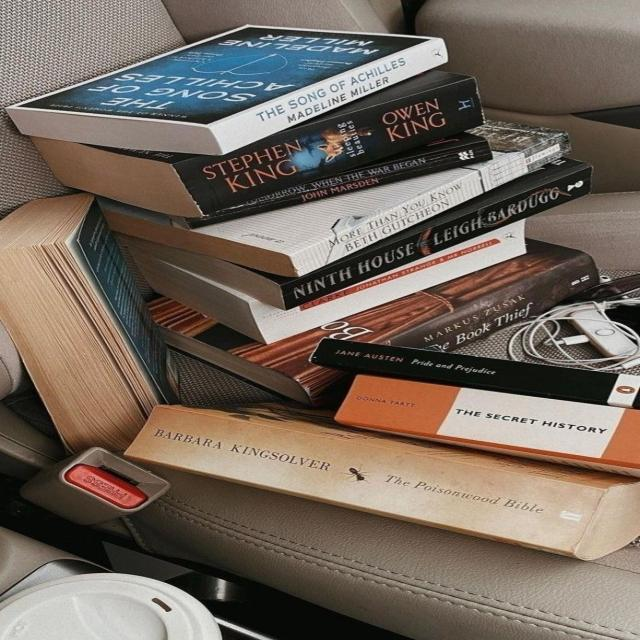book: (125, 405, 605, 553), (10, 25, 441, 126), (281, 169, 591, 307), (181, 81, 485, 215), (294, 131, 572, 276), (257, 223, 528, 345), (335, 377, 639, 465), (217, 39, 443, 152), (190, 151, 492, 228), (310, 339, 639, 405)
